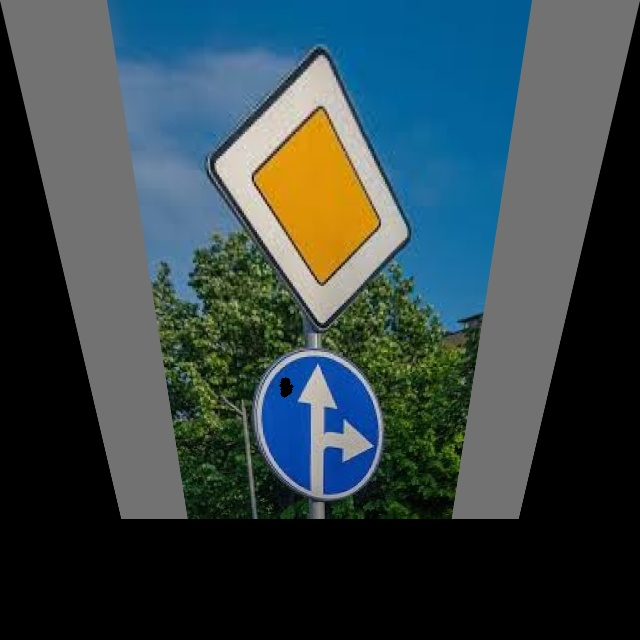Compulsory_Ahead_or_Turn_Right: (251, 346, 390, 498)
